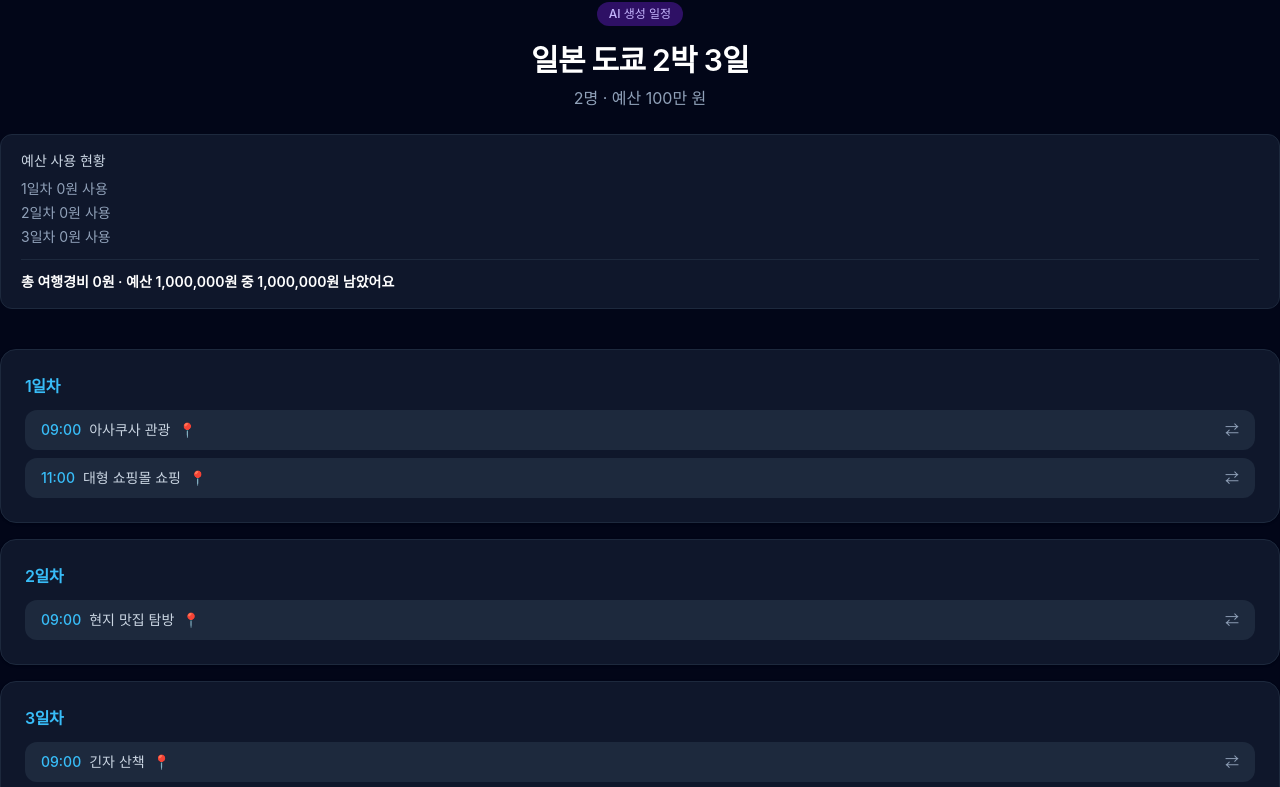
Scenario: ItineraryResult › shows concrete swap options when the "다른 옵션" toggle is clicked
Click the button named "아사쿠사 관광 다른 옵션 보기".
click(1232, 430)  # box [1225, 420, 1239, 440]
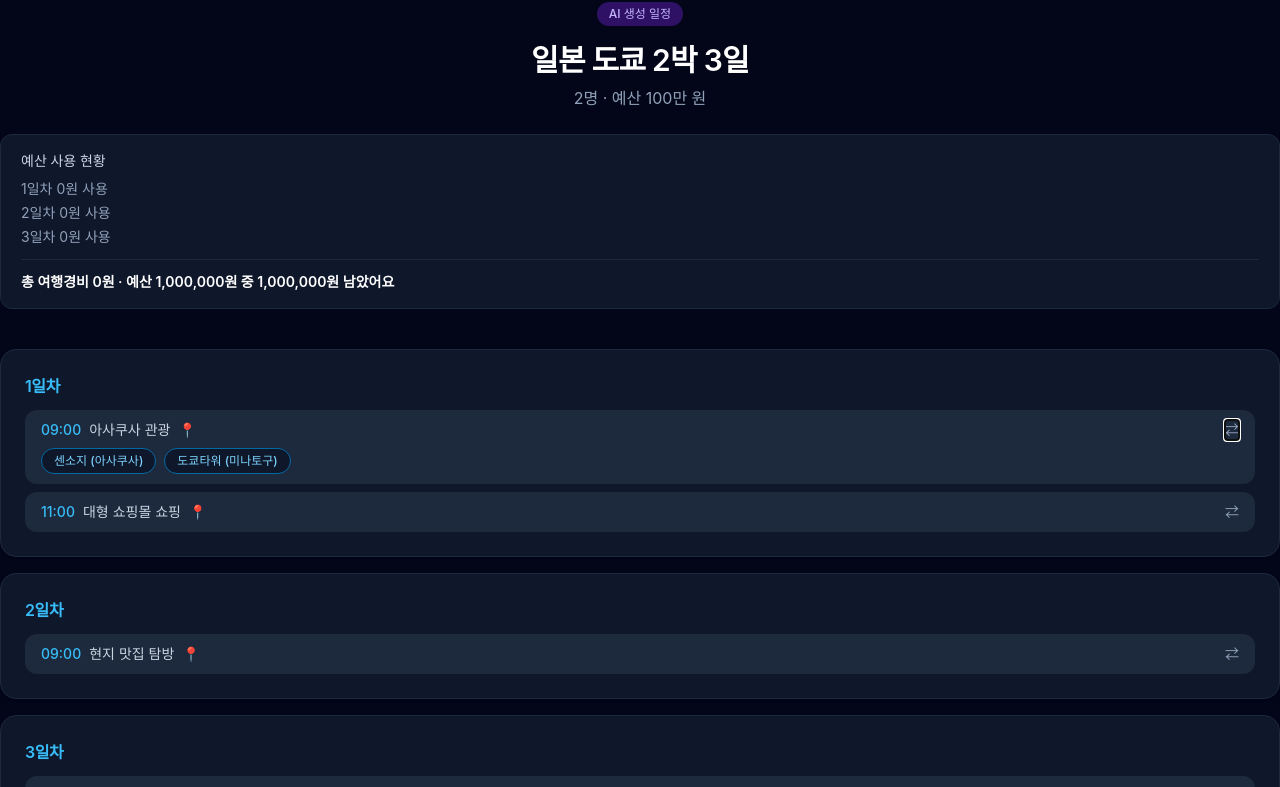
expect the button with aria-label "센소지 (아사쿠사) 선택" is shown: met, box [41, 448, 156, 474]
expect the button with aria-label "도쿄타워 (미나토구) 선택" is shown: met, box [164, 448, 291, 474]
